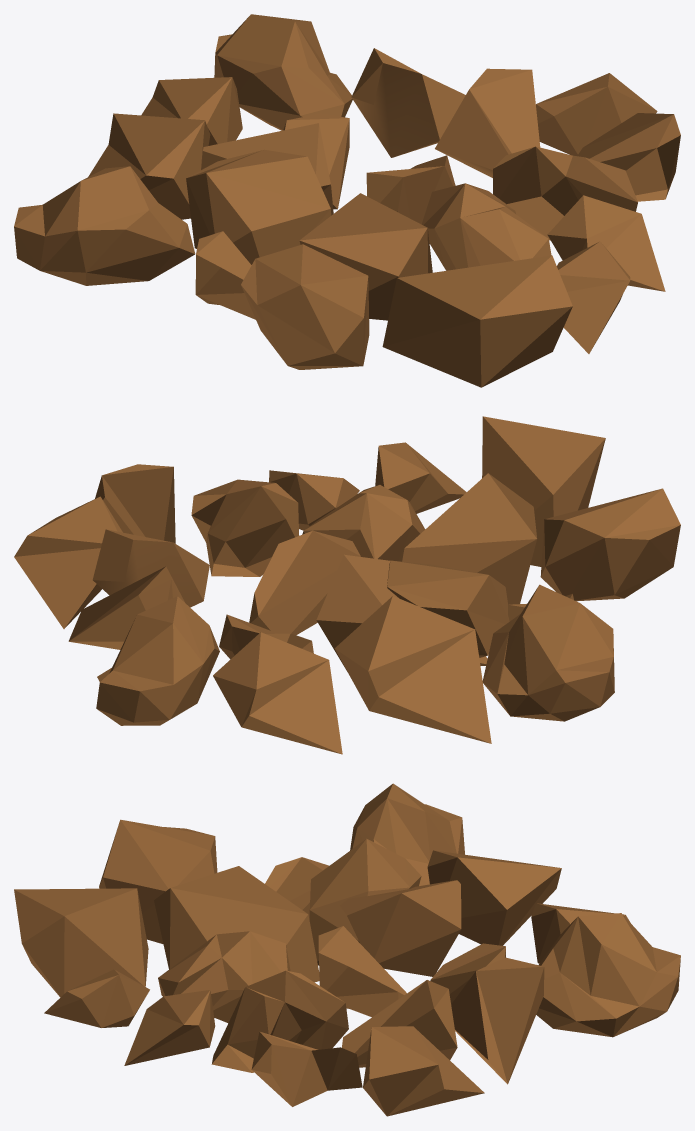
The model's file is CopperPileSmall.fbx.
The picture shows the model from 3 angles, top to bottom: view 1: azimuth 30°, elevation 25°; view 2: azimuth 150°, elevation 25°; view 3: azimuth 270°, elevation 25°; orthographic projection. The views are drawn at different scales.
Parts seen in each view (by area): view 1: CopperPile2; view 2: CopperPile2; view 3: CopperPile2.
Part boxes in pixels (x1,y1,x2,y2): CopperPile2: (14, 14, 680, 387); CopperPile2: (14, 416, 680, 754); CopperPile2: (14, 783, 680, 1116).
Size of the model in its own units: 12.65 by 2.35 by 13.39.
